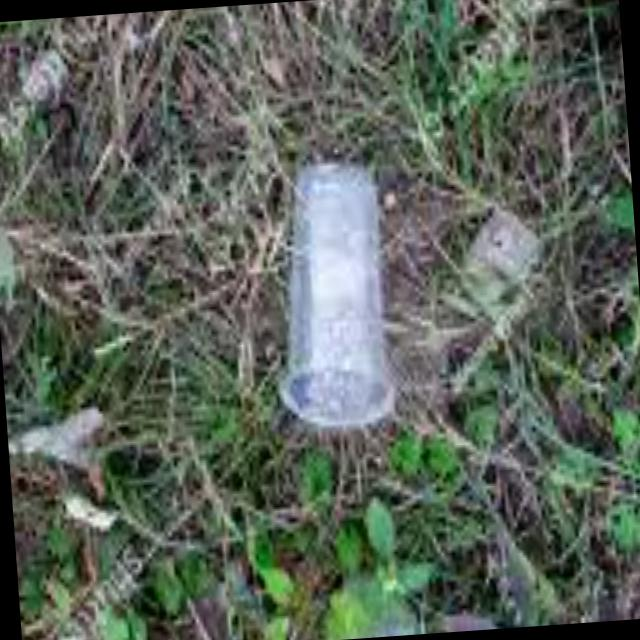GelasPlastik: (263, 153, 402, 436)
